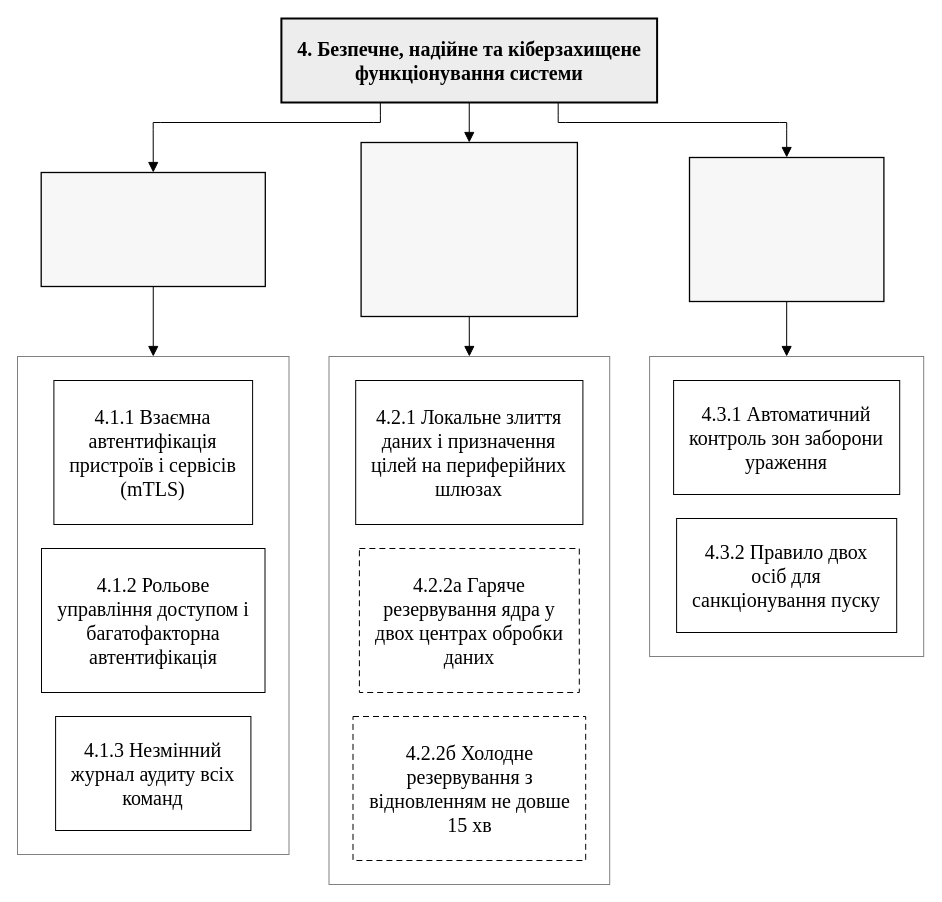
Image size: 942x902. Some labels were removed from this diagram. Each missing label, with the box of its shape:
4.1 Захист інформації від несанкціонованого доступу: (40, 171, 266, 287)
4.2 Доступність ядра 99,95 % та автономність периферії не менше 4 год: (360, 141, 578, 317)
4.3 Запобігання ураженню дружніх повітряних суден і цивільних об’єктів: (688, 156, 884, 302)
